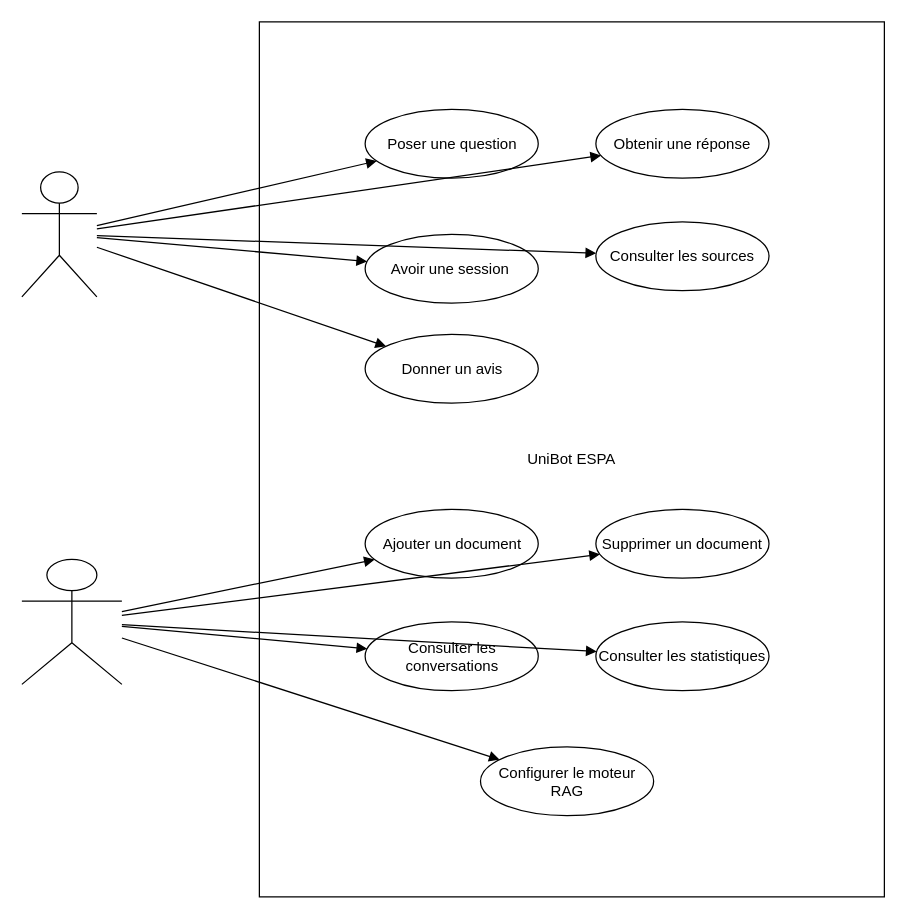
The diagram is 906 pixels wide and 919 high, and some of its shapes have lost their labels. Each missing label, with the centre of its shape:
"Administrateur" belongs at (x=71, y=621).
"Étudiant" belongs at (x=59, y=234).
